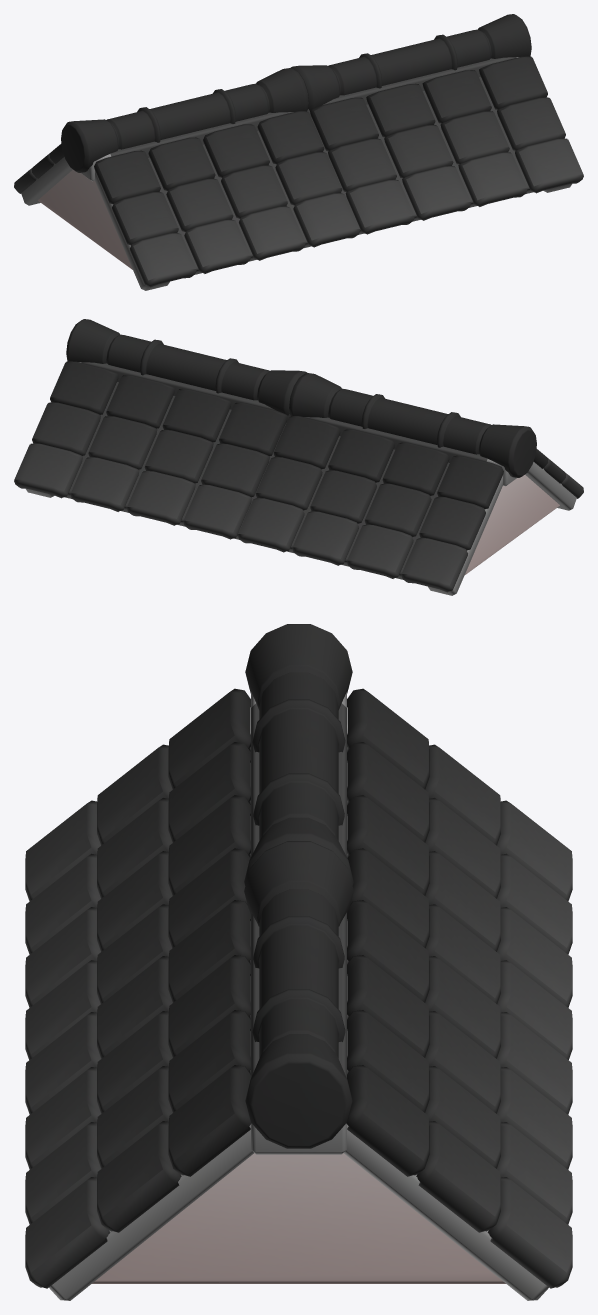
File: SM_Wood_Roof_06.fbx
The picture shows the model from 3 angles, top to bottom: view 1: azimuth 30°, elevation 25°; view 2: azimuth 150°, elevation 25°; view 3: azimuth 270°, elevation 25°; orthographic projection. The views are drawn at different scales.
Parts seen in each view (by area): view 1: SM_Wood_Roof_06; view 2: SM_Wood_Roof_06; view 3: SM_Wood_Roof_06.
Part boxes in pixels (box(x1,y1,x2,y2)): SM_Wood_Roof_06: box(14, 14, 583, 290); SM_Wood_Roof_06: box(14, 319, 583, 595); SM_Wood_Roof_06: box(25, 624, 572, 1300).
Bounding box in the file's own units: 2.06 × 0.5583 × 1.09.
